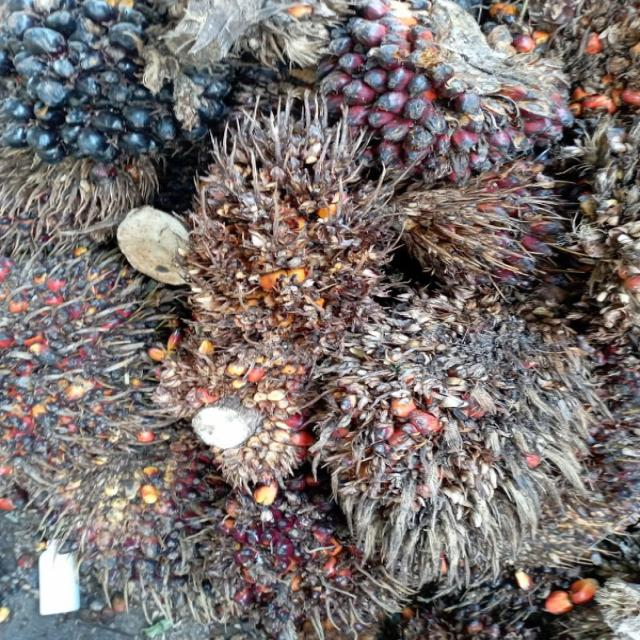fraksi 00: (221, 0, 599, 208), (0, 0, 269, 242)
fraksi 4: (105, 92, 445, 357)
